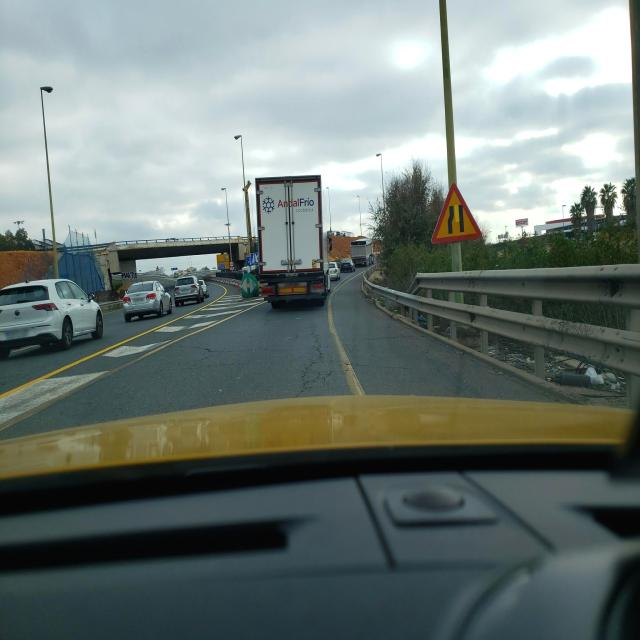car: (0, 278, 104, 360), (123, 280, 173, 322), (173, 275, 204, 305), (328, 261, 341, 281), (340, 258, 355, 273), (197, 278, 208, 297)
